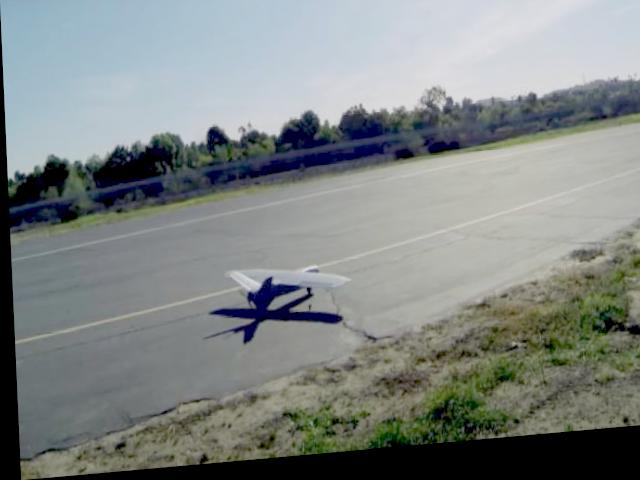iha: (219, 262, 350, 318)
